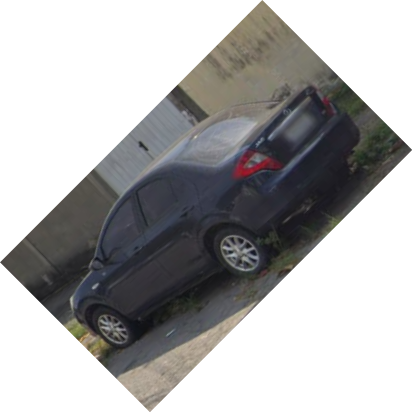car: (69, 84, 362, 349)
